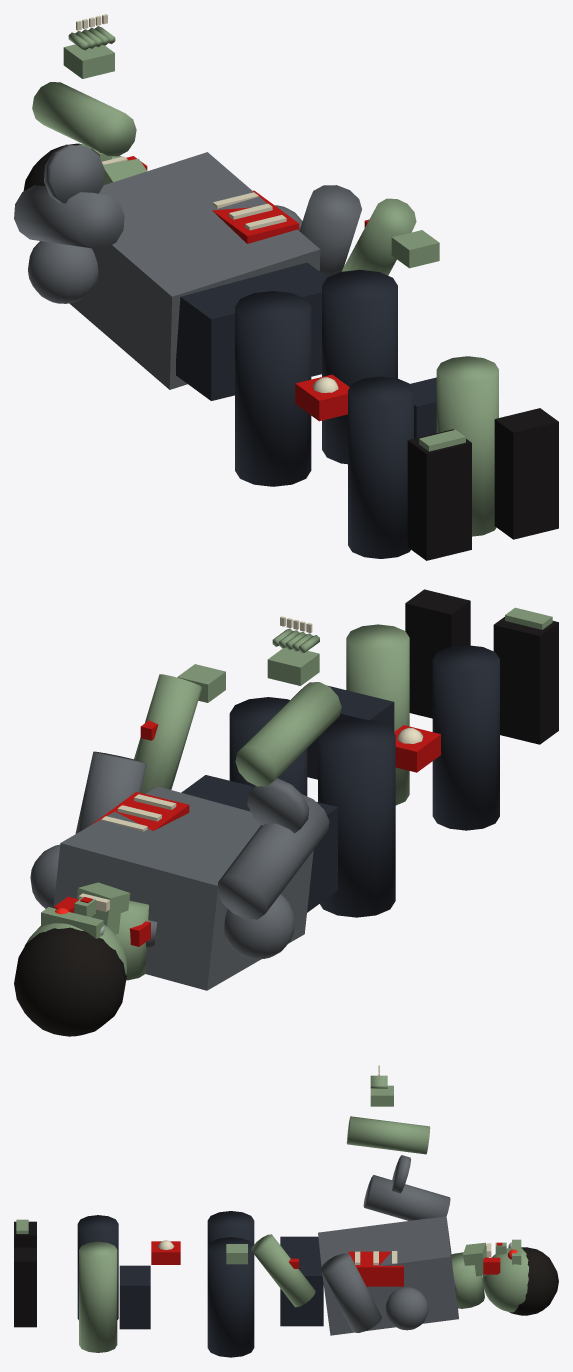
The model's file is zombie_normal.obj.
The picture shows the model from 3 angles, top to bottom: view 1: azimuth 30°, elevation 25°; view 2: azimuth 150°, elevation 25°; view 3: azimuth 270°, elevation 25°; orthographic projection. The views are drawn at different scales.
Parts seen in each view (by area): view 1: ZombieNormal; view 2: ZombieNormal; view 3: ZombieNormal.
Boxes of the visible parts, <box> form: ZombieNormal: <box>14,14,558,560</box>; ZombieNormal: <box>14,589,558,1036</box>; ZombieNormal: <box>14,1065,558,1357</box>.
Size of the model in its own units: 0.602 by 0.834 by 1.76.
